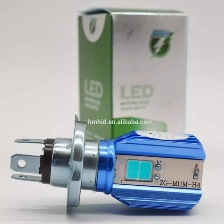carton: (72, 2, 193, 167)
light_bulb: (6, 108, 211, 221)
